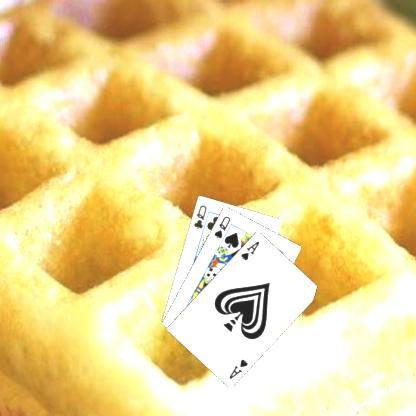AS: (226, 356, 249, 380), (238, 238, 260, 262)
QC: (191, 202, 208, 230)
QS: (211, 214, 232, 240)
